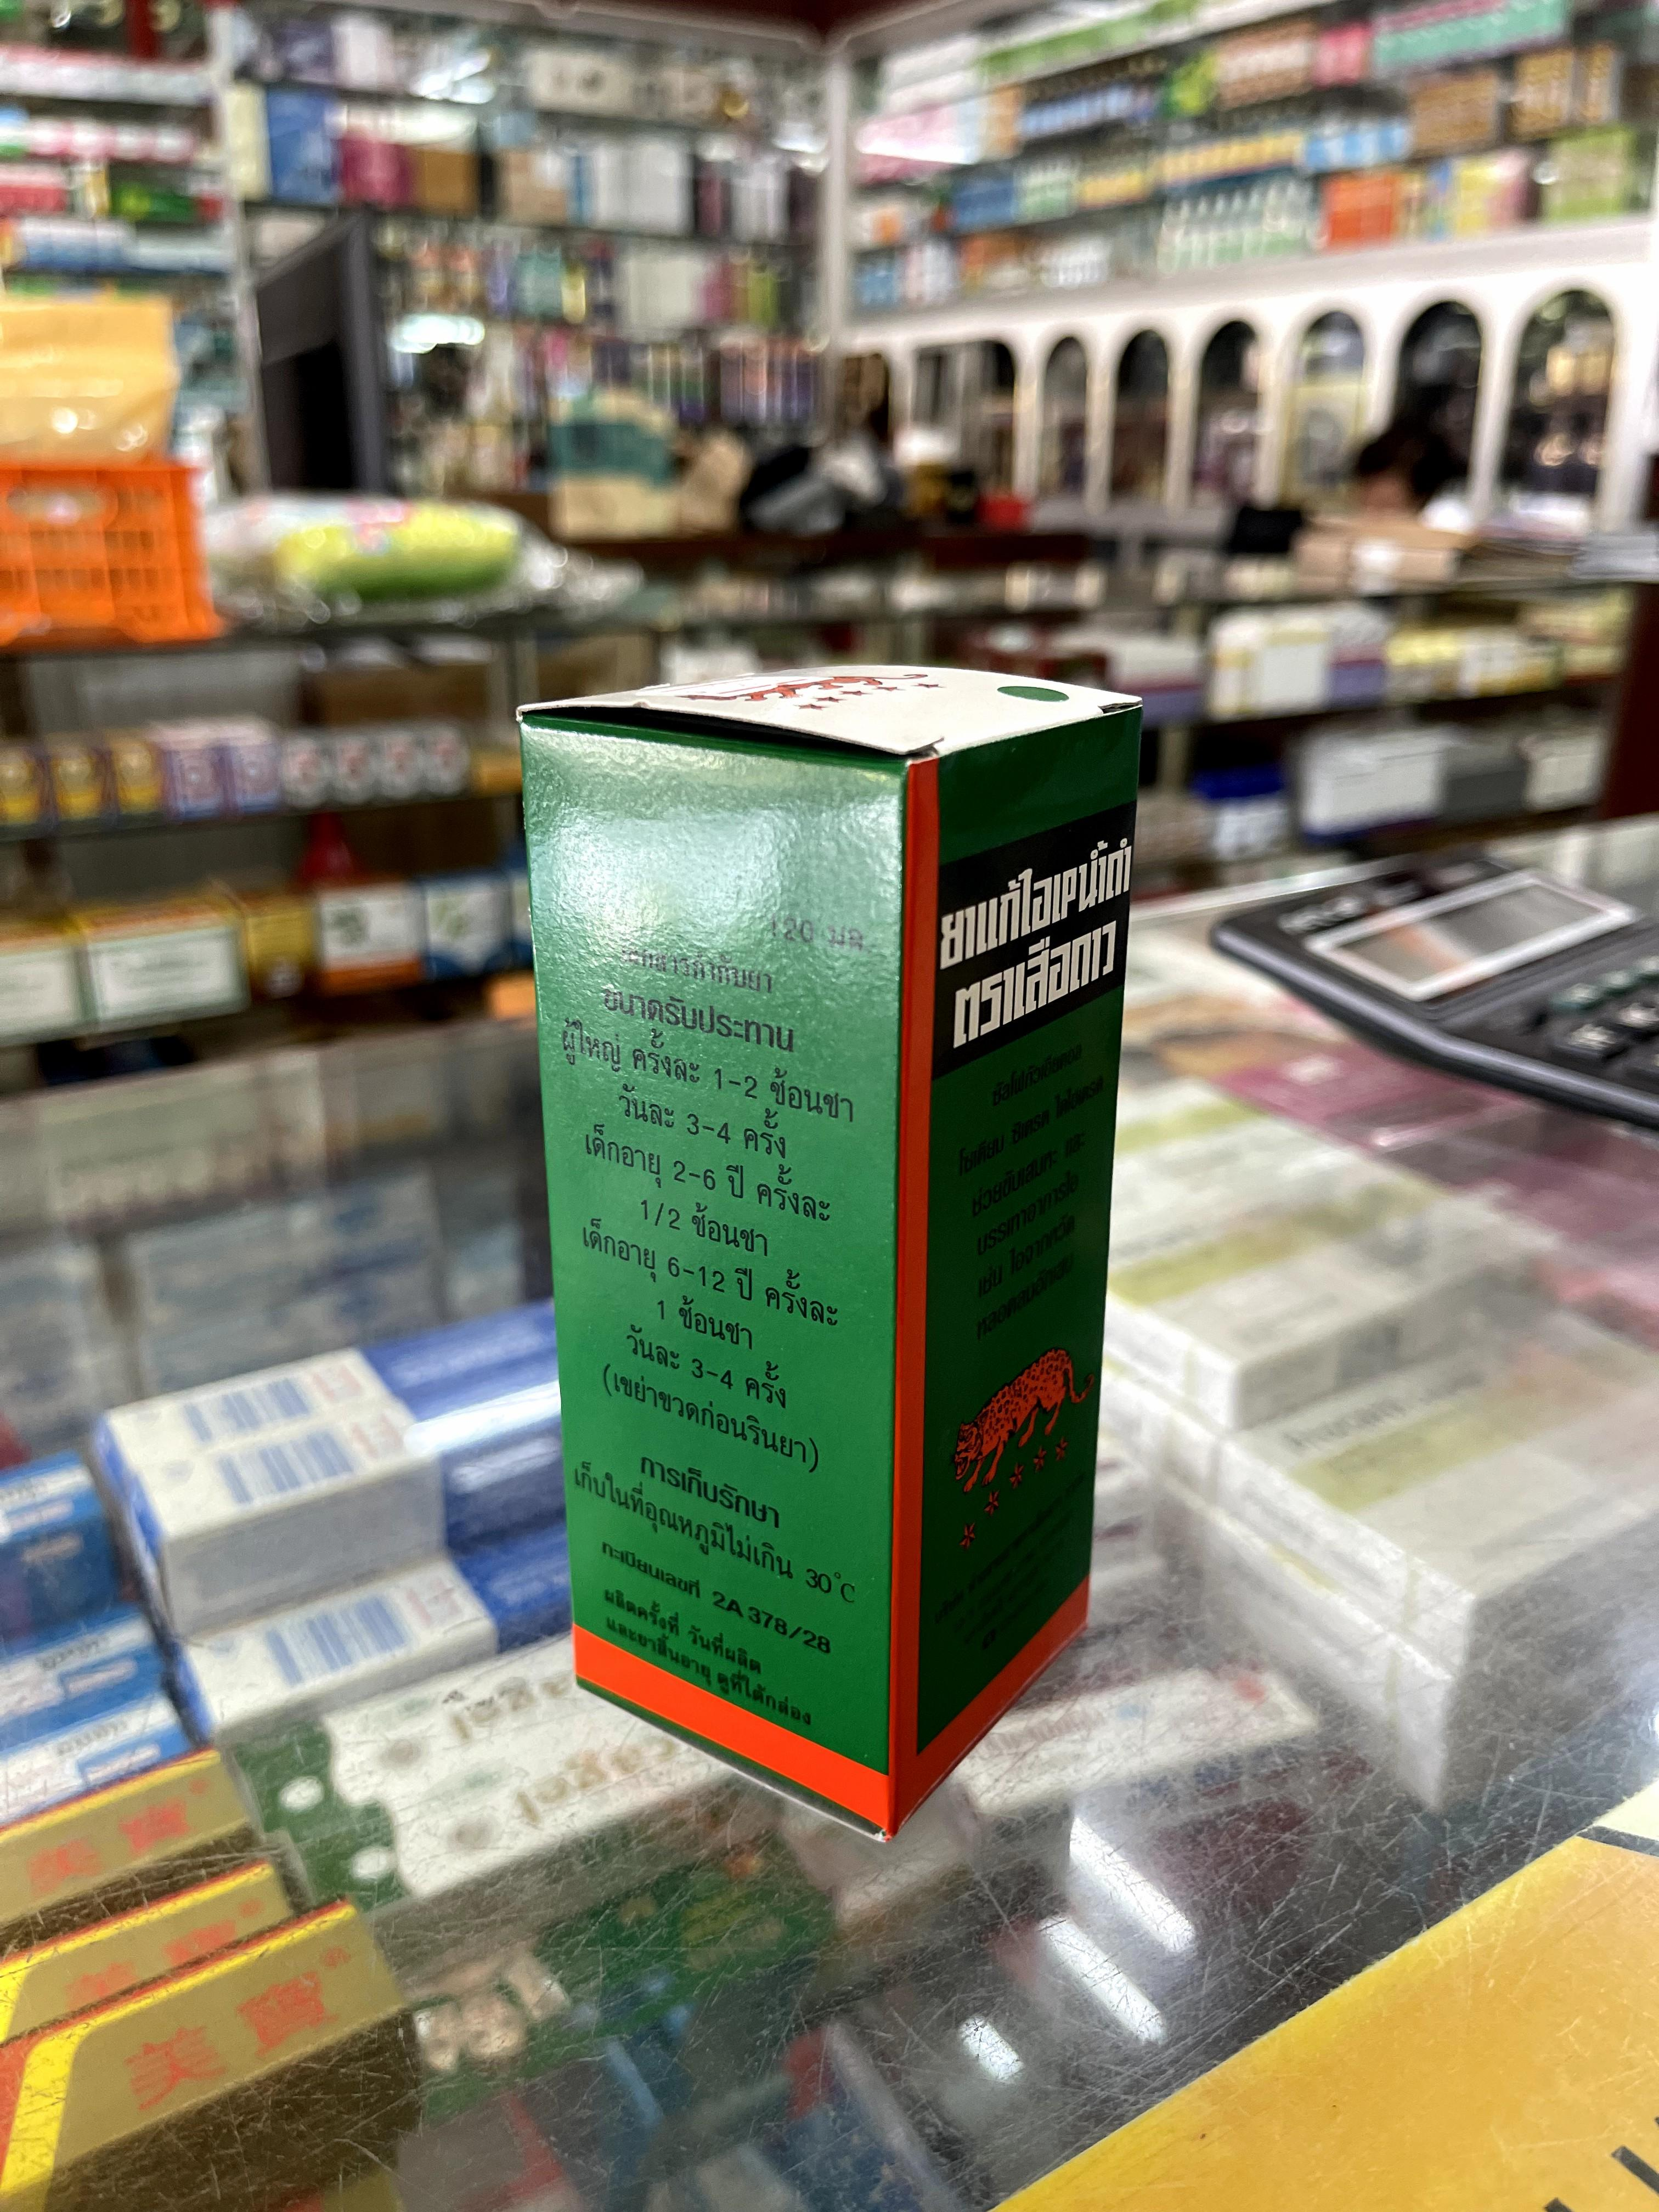Black-Tiger_Big: (530, 672, 1138, 1832)
